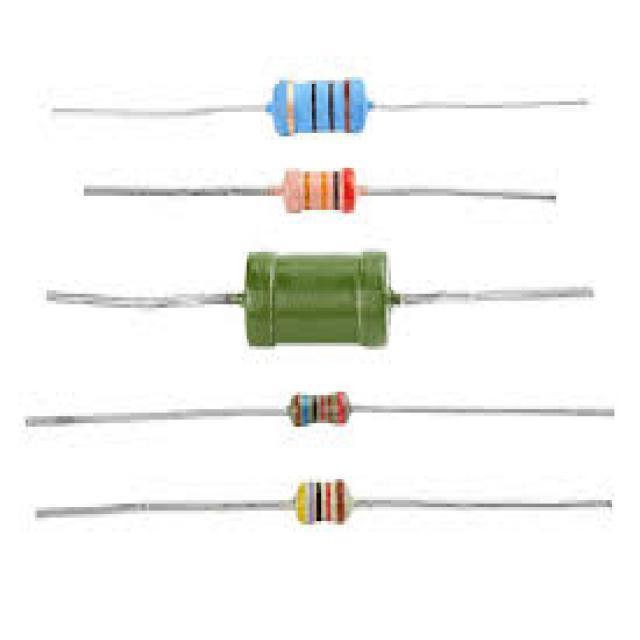Resistor: (46, 251, 594, 346), (52, 78, 590, 136), (84, 168, 556, 213), (26, 391, 611, 426), (295, 479, 572, 524), (139, 502, 290, 511)
